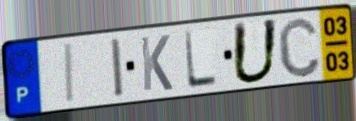C: (275, 14, 323, 80)
I: (109, 36, 127, 101), (64, 41, 77, 106)
K: (138, 33, 175, 94)
L: (182, 29, 220, 91)
U: (230, 17, 281, 87)
